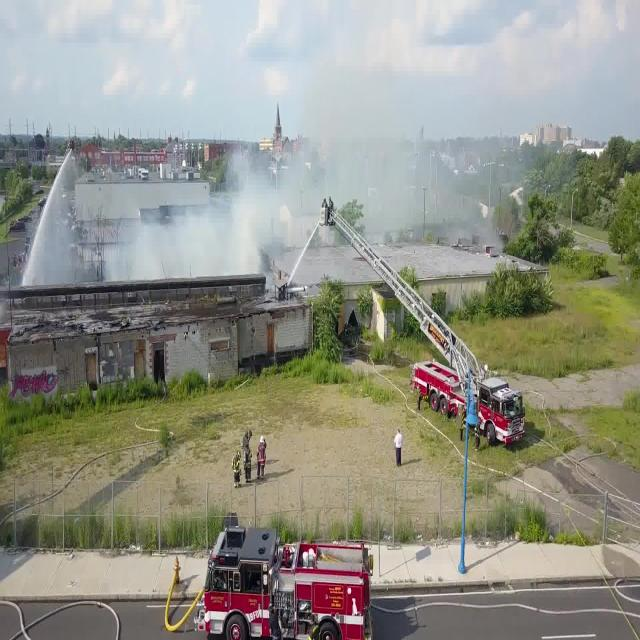Smoke: (36, 31, 456, 306)
